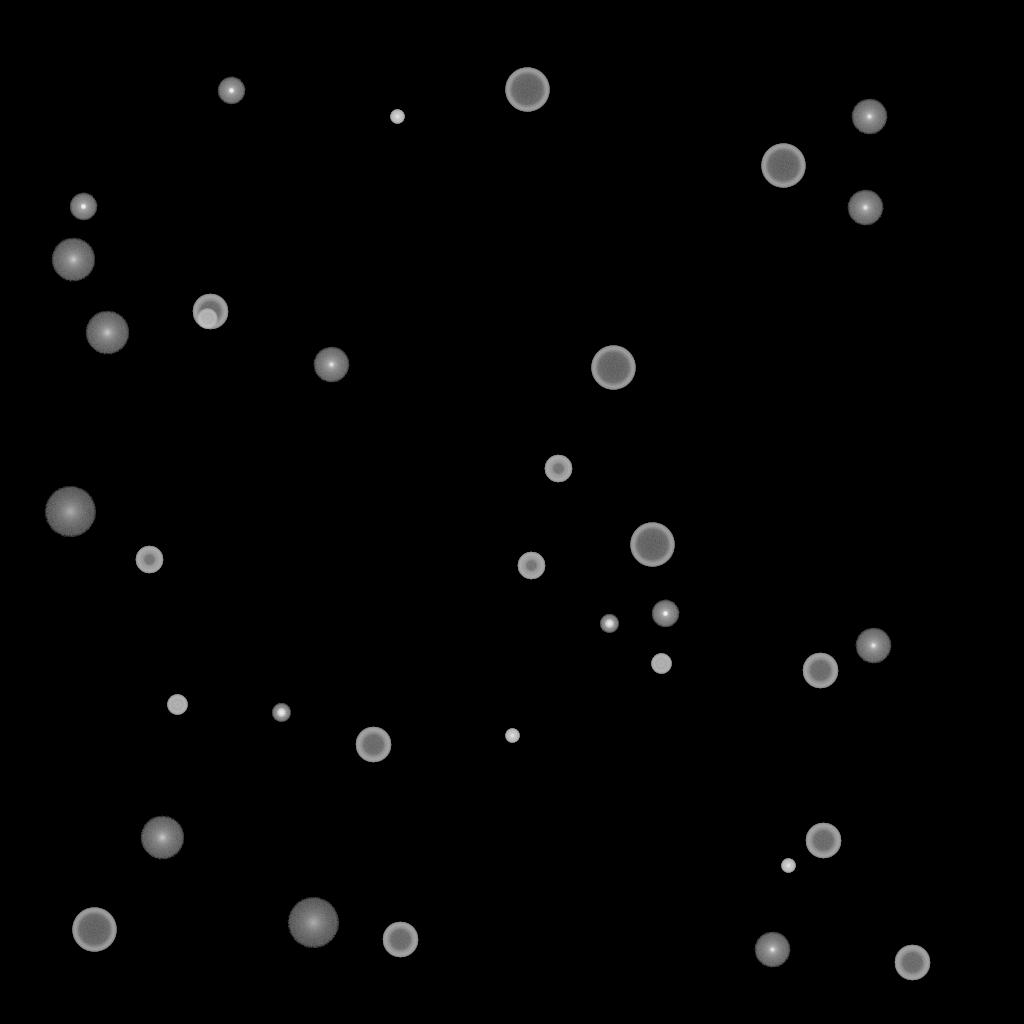depth:-10: (217, 77, 245, 105), (651, 600, 679, 628), (69, 193, 97, 221)
depth:-20: (600, 615, 618, 633), (272, 704, 290, 722)
depth:-30: (505, 729, 519, 743), (781, 859, 795, 873), (390, 110, 404, 124)
depth:-40: (167, 695, 187, 715), (651, 654, 671, 674), (197, 309, 217, 329)
depth:-50: (517, 552, 545, 580), (544, 455, 572, 483), (135, 546, 163, 574)
depth:-60: (805, 823, 841, 859), (802, 653, 838, 689), (192, 294, 228, 330), (894, 945, 930, 981), (382, 922, 418, 958), (355, 727, 391, 763)
depth:-70: (505, 68, 549, 112), (591, 346, 635, 390), (761, 144, 805, 188), (72, 908, 116, 952), (630, 523, 674, 567)
depth:0: (313, 347, 349, 383), (754, 932, 790, 968), (855, 628, 891, 664), (851, 99, 887, 135), (847, 190, 883, 226)
depth:10: (85, 311, 129, 355), (140, 816, 184, 860), (51, 238, 95, 282)
depth:20: (287, 898, 339, 948), (44, 487, 96, 537)
